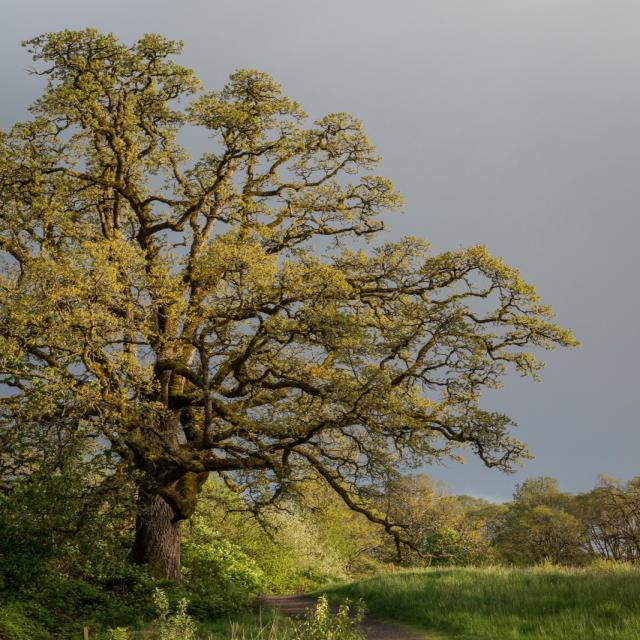Quercus garryana: (0, 27, 582, 578)
